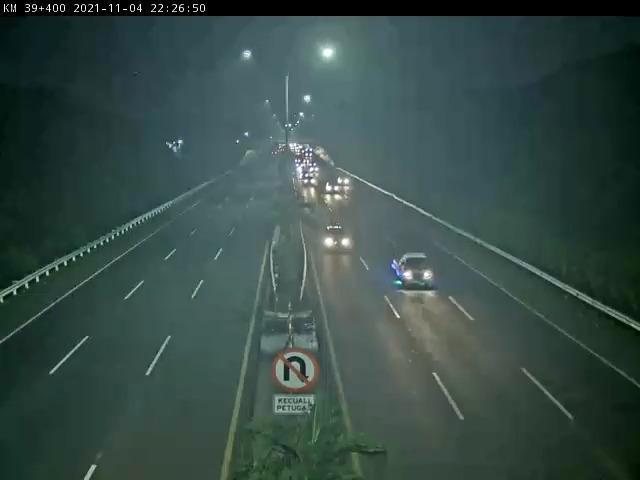car: (323, 226, 351, 253)
truck: (390, 252, 436, 290)
